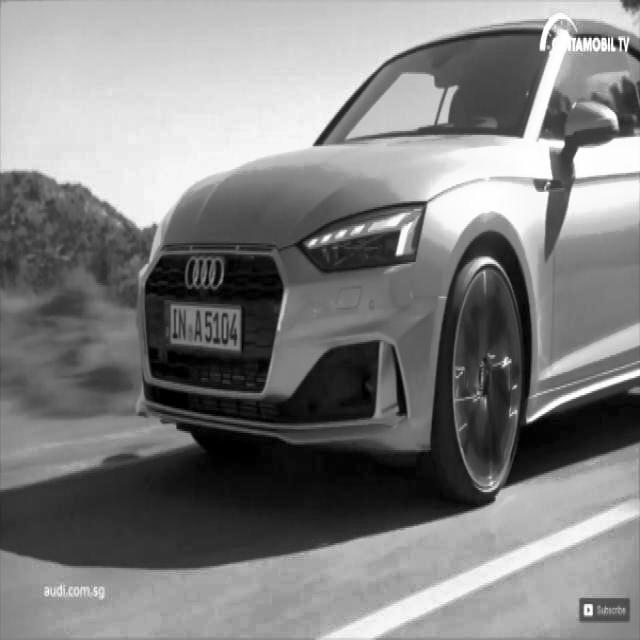Car: (137, 12, 639, 509)
